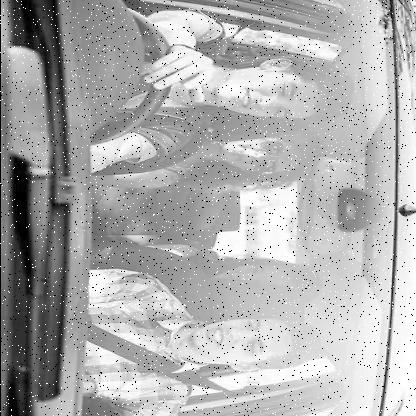seatbelt: (94, 278, 298, 404), (105, 30, 351, 127)
